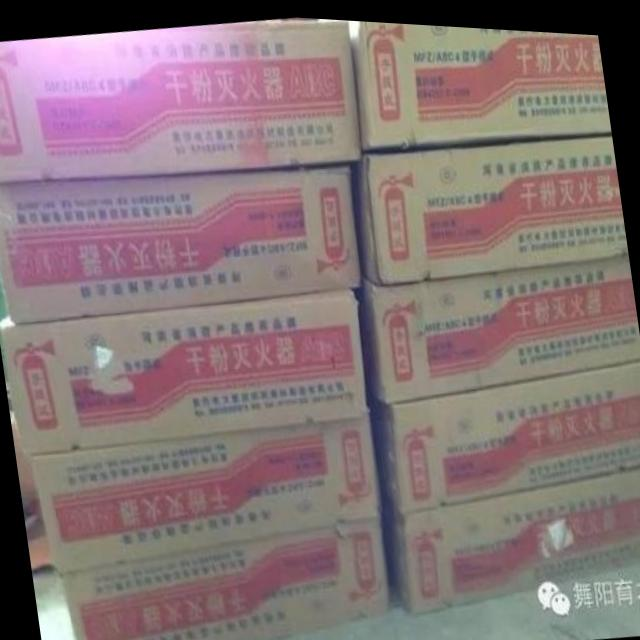box: (28, 398, 381, 577), (0, 286, 366, 458), (0, 18, 363, 180), (0, 163, 360, 323), (368, 352, 640, 510), (359, 250, 640, 398), (351, 129, 628, 279), (61, 516, 390, 640), (379, 459, 640, 612), (318, 15, 610, 147)
